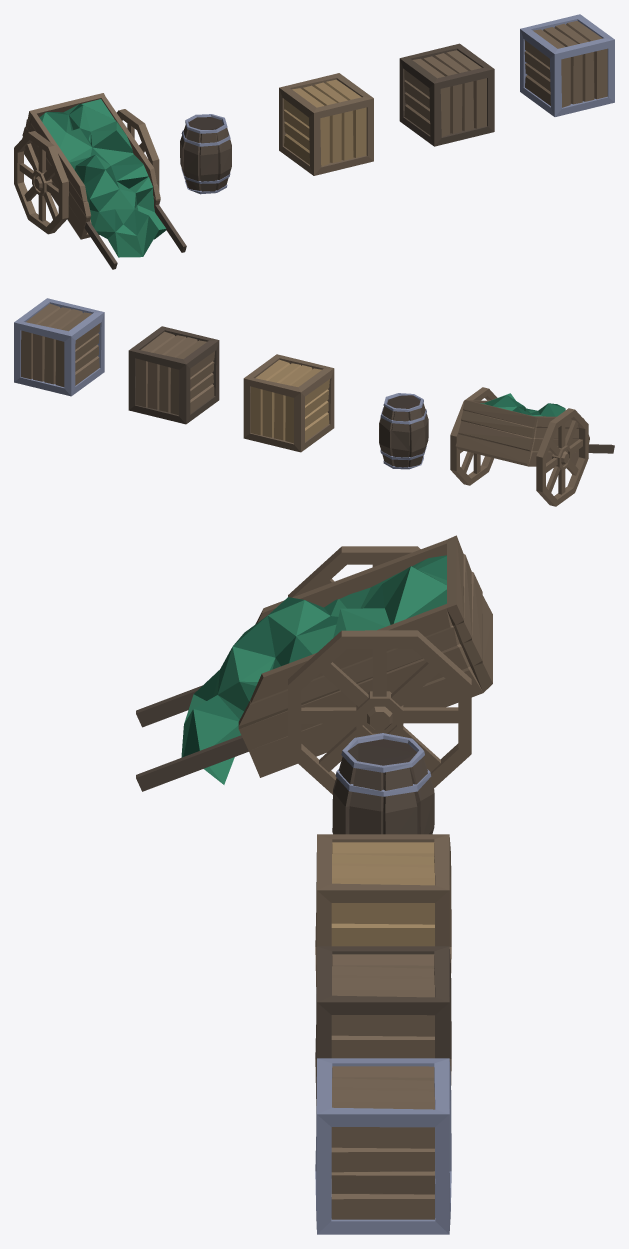
File: UrbanAssets.fbx
3 renders of one model, top to bottom at view 1: azimuth 30°, elevation 25°; view 2: azimuth 150°, elevation 25°; view 3: azimuth 270°, elevation 25°, orthographic. The views are drawn at different scales.
Visible parts, largest first — view 1: Circle, box2, box3, box1, barrel; view 2: Circle, box1, box2, box3, barrel; view 3: Circle, box3, box1, box2, barrel.
Boxes of the visible parts, <box> form: Circle: <box>14,93,186,269</box>; box2: <box>399,43,494,146</box>; box3: <box>520,14,614,116</box>; box1: <box>279,73,373,175</box>; barrel: <box>180,114,231,194</box>; Circle: <box>450,387,614,506</box>; box1: <box>243,354,334,452</box>; box2: <box>128,326,219,424</box>; box3: <box>14,298,104,396</box>; barrel: <box>379,393,428,469</box>; Circle: <box>136,535,492,794</box>; box3: <box>315,1058,451,1234</box>; box1: <box>315,834,451,993</box>; box2: <box>315,946,451,1105</box>; barrel: <box>332,733,434,834</box>.
Bounding box in the file's own units: 9.33 × 1.71 × 2.69.
